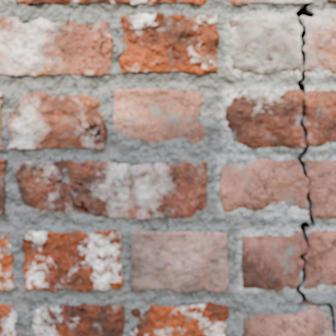brick: (16, 160, 206, 218), (0, 18, 112, 75), (23, 230, 123, 291), (119, 14, 218, 74), (131, 231, 228, 292), (7, 92, 106, 149), (113, 89, 204, 142), (131, 302, 228, 335), (33, 304, 124, 335), (243, 309, 333, 335), (16, 0, 205, 4), (0, 236, 12, 290), (0, 304, 16, 335), (229, 0, 312, 5), (0, 159, 5, 216), (94, 21, 111, 37), (0, 101, 2, 149)
broken_brick: (218, 158, 307, 213), (225, 88, 304, 149), (228, 12, 300, 74), (241, 231, 305, 291), (301, 14, 335, 74), (303, 159, 335, 219), (306, 230, 335, 288), (306, 89, 335, 146)
crack: (294, 2, 335, 333), (29, 169, 88, 212), (71, 111, 106, 139), (86, 25, 113, 58), (0, 91, 3, 101), (221, 168, 223, 176)
